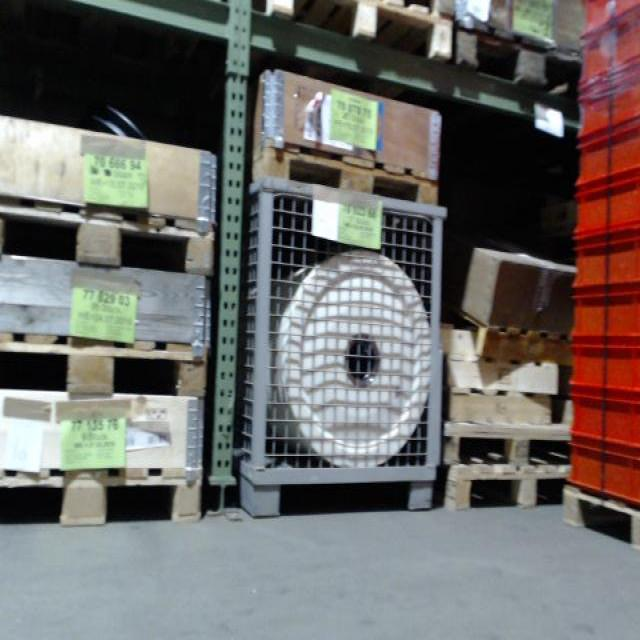pallet: (0, 191, 217, 280), (0, 329, 208, 401), (248, 137, 439, 206), (0, 466, 211, 528), (263, 0, 454, 63), (454, 26, 580, 101), (440, 462, 578, 513), (442, 418, 578, 469), (561, 486, 640, 553)
small_load_carrier: (572, 118, 639, 193), (564, 438, 635, 508), (580, 63, 638, 142), (579, 12, 639, 86), (575, 177, 637, 246), (572, 238, 639, 297), (572, 291, 636, 348), (567, 344, 636, 396), (566, 401, 636, 449), (573, 0, 636, 45)
stillage: (229, 161, 446, 521)
